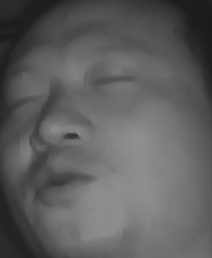blink: (88, 68, 138, 92), (3, 91, 42, 110)
mouth: (24, 160, 100, 207)
